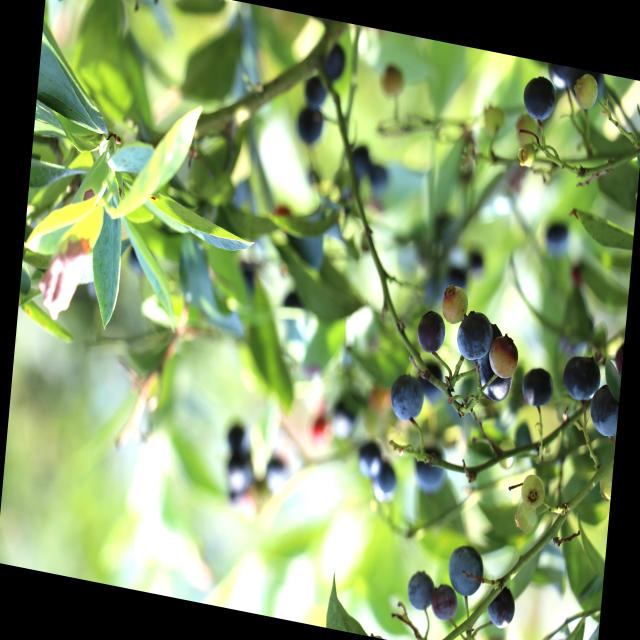blueberry: (455, 307, 497, 366), (560, 354, 604, 406), (517, 70, 557, 126), (386, 371, 426, 425), (446, 543, 484, 599), (518, 360, 558, 412), (586, 378, 620, 439), (413, 440, 448, 496), (477, 351, 512, 405), (484, 582, 517, 633), (415, 307, 448, 358), (406, 569, 436, 612), (430, 582, 460, 624), (293, 106, 323, 148), (226, 451, 254, 494), (320, 45, 348, 84), (356, 443, 382, 480), (265, 457, 289, 492), (303, 79, 329, 110), (374, 464, 397, 499), (351, 146, 369, 176)
blueberry-halfripe: (488, 332, 519, 381), (440, 281, 470, 327)
blueberry-unripe: (572, 68, 602, 112), (519, 470, 547, 512), (514, 498, 540, 535), (480, 101, 507, 136), (595, 453, 614, 502), (514, 139, 540, 171)
